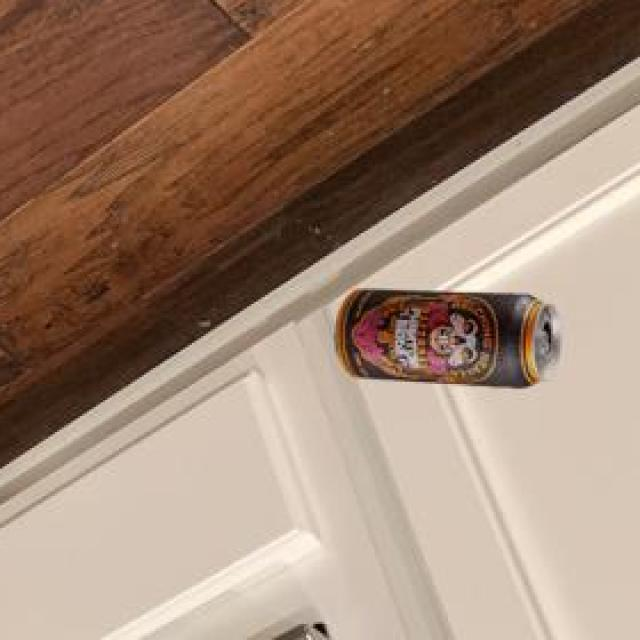logam: (339, 294, 563, 392)
